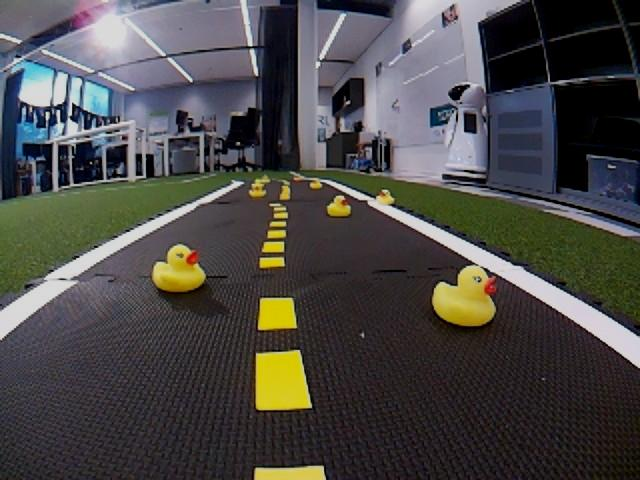Duckies: (433, 264, 499, 327), (154, 245, 207, 293), (327, 195, 351, 219), (376, 189, 395, 206), (250, 184, 266, 198), (310, 179, 321, 190)
